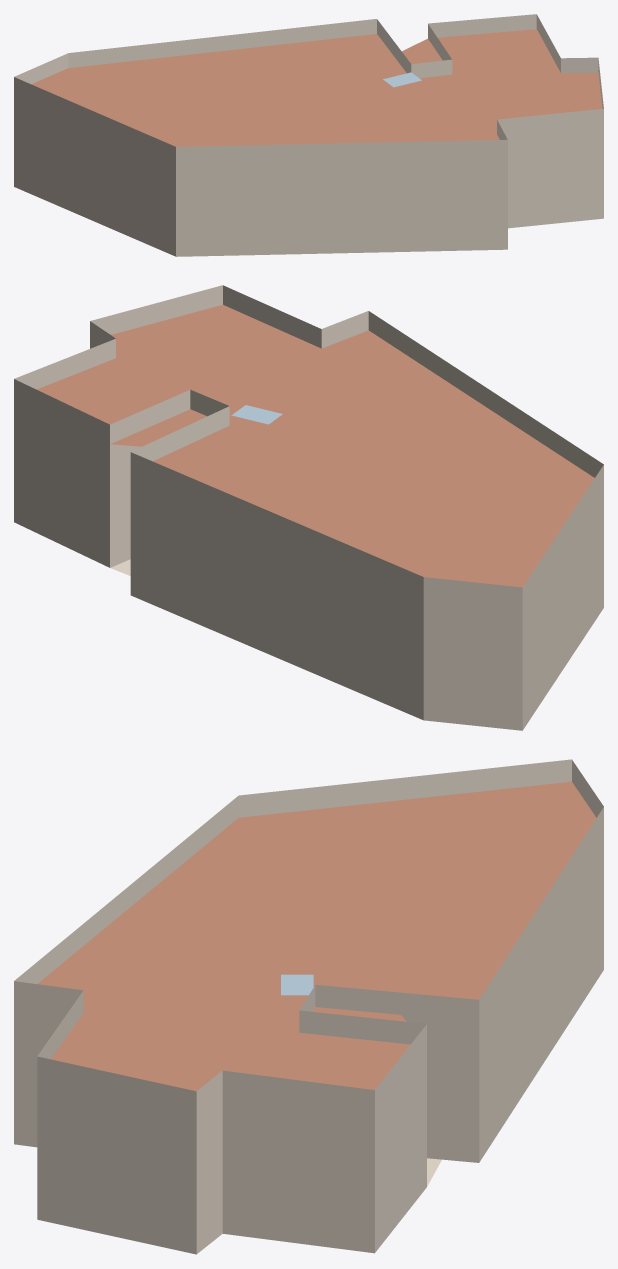
3 views of the same model, one above another, from view 1: azimuth 30°, elevation 25°; view 2: azimuth 150°, elevation 25°; view 3: azimuth 270°, elevation 25° (orthographic). The views are drawn at different scales.
Visible parts, largest first — view 1: W-39/1#2; view 2: W-39/1#2; view 3: W-39/1#2.
Boxes of the visible parts, x1,y1,x2,y2 form: W-39/1#2: [14, 14, 603, 256]; W-39/1#2: [14, 285, 603, 730]; W-39/1#2: [14, 759, 603, 1254].
Size of the model in its own units: 19.19 by 4.4 by 14.41.
